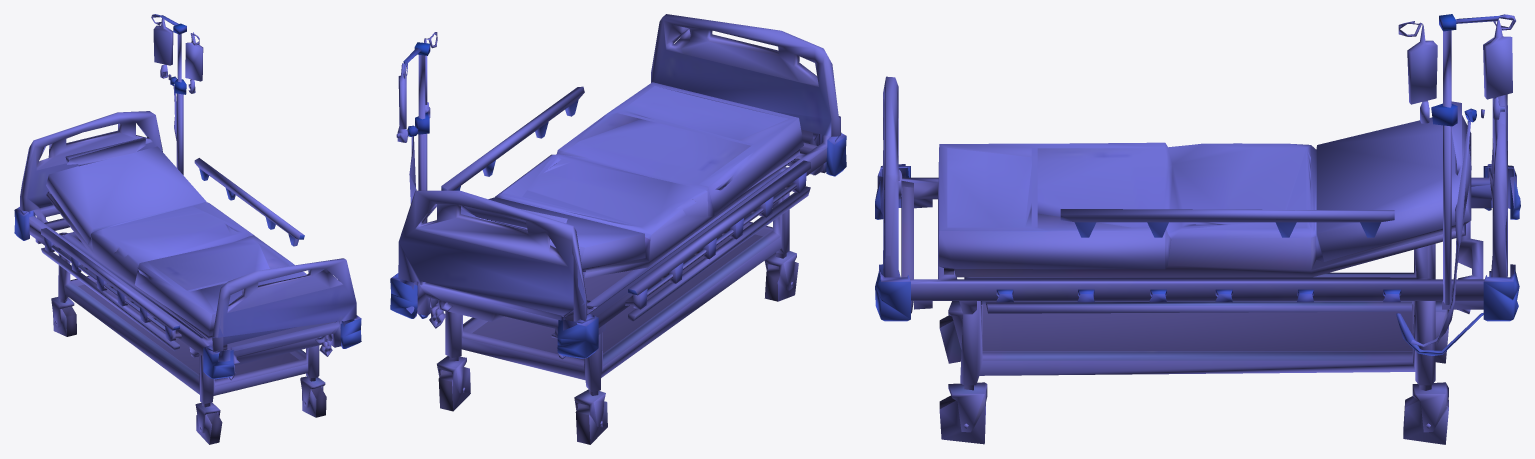
The model's file is model.progressive.glb.
3 renders of one model, left to right at view 1: azimuth 30°, elevation 25°; view 2: azimuth 150°, elevation 25°; view 3: azimuth 270°, elevation 25°, orthographic. The views are drawn at different scales.
Parts seen in each view (by area): view 1: material; view 2: material; view 3: material.
Part boxes in pixels (x1,y1,x2,y2): material: (14, 14, 361, 444); material: (390, 14, 846, 444); material: (875, 14, 1520, 444).
Size of the model in its own units: 0.8845 by 1.41 by 1.9.
1 material, 1 textured.
